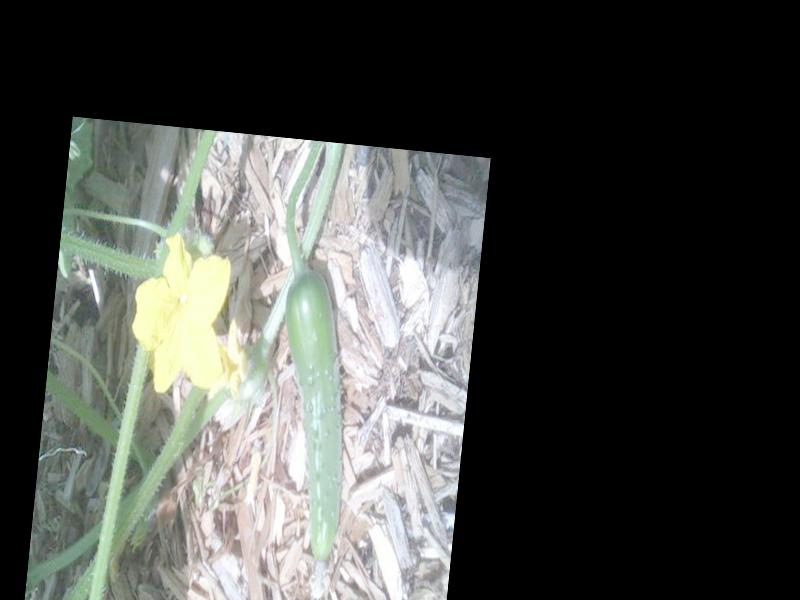Cucumber: (257, 263, 366, 594)
